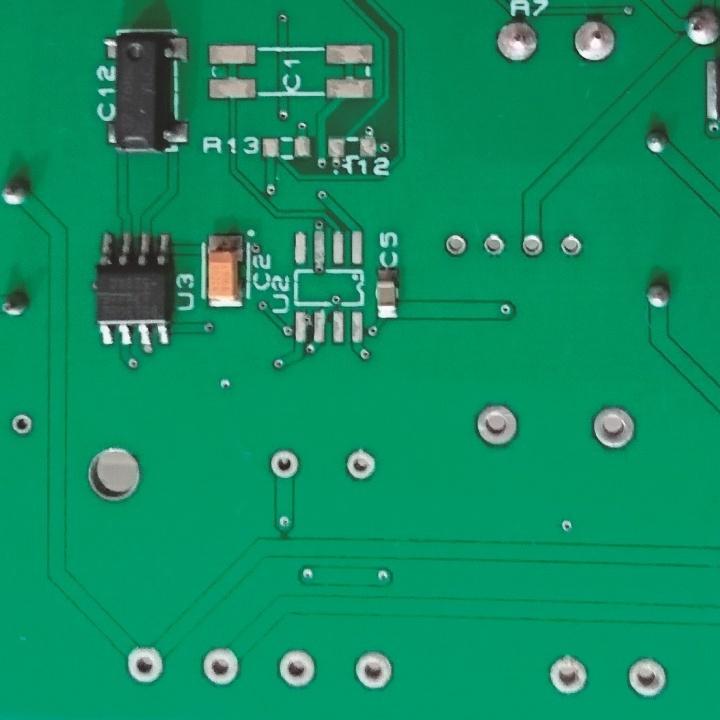F: (589, 402, 639, 457), (570, 15, 619, 68), (492, 15, 542, 66), (470, 400, 521, 449), (623, 655, 670, 700), (199, 644, 243, 688), (276, 646, 319, 691), (350, 649, 394, 691), (548, 651, 589, 696), (124, 642, 165, 685), (342, 448, 377, 484), (267, 448, 299, 480), (7, 411, 39, 438), (556, 232, 584, 260), (442, 231, 471, 258), (519, 232, 546, 261), (481, 231, 507, 257)
